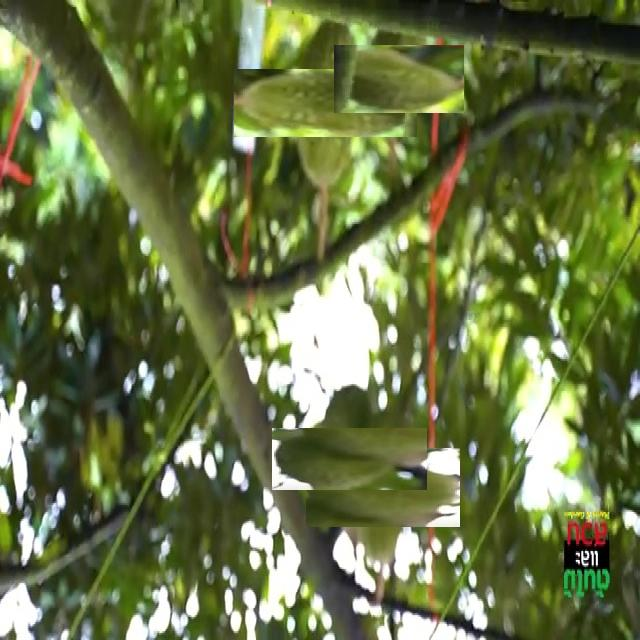durian: (263, 40, 389, 166), (325, 429, 441, 546), (295, 405, 404, 514), (349, 30, 448, 129)
